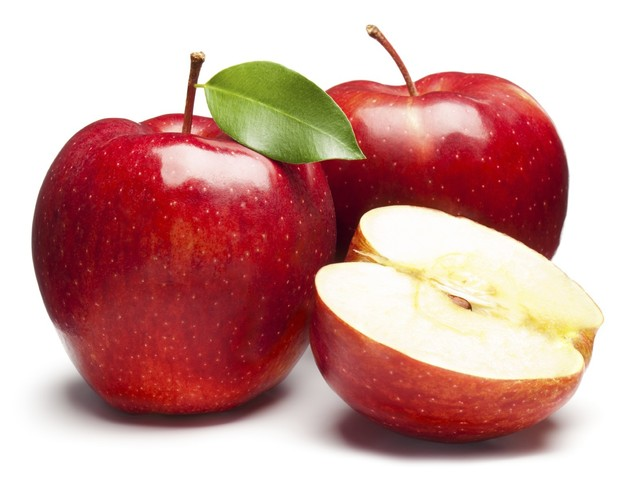apple: (27, 47, 340, 421), (308, 186, 608, 447), (303, 13, 566, 274)
